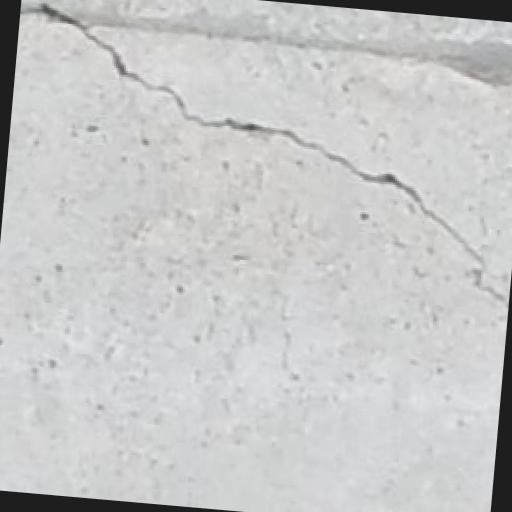spalling: (28, 0, 500, 316)
